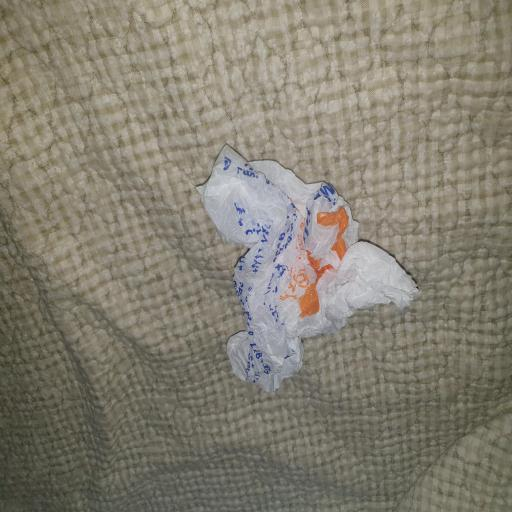plastic bag: (198, 146, 424, 396)
